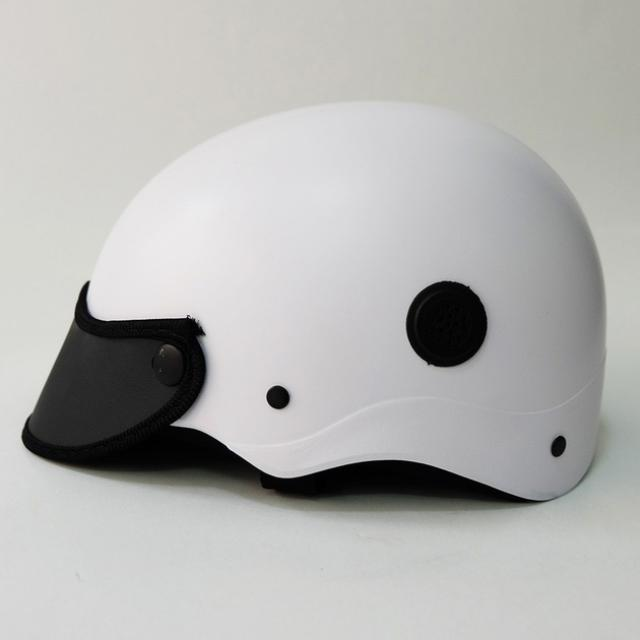Helmet: (21, 92, 614, 511)
